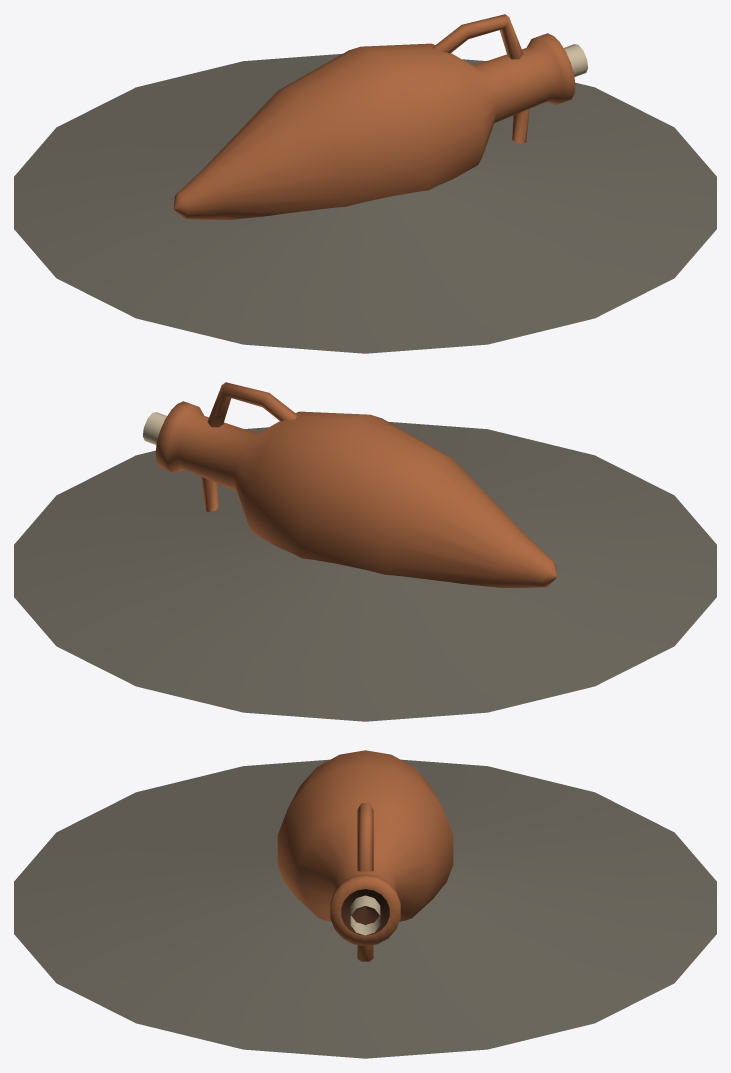
Rendered from atlas-amphora.glb.
3 renders of one model, top to bottom at view 1: azimuth 30°, elevation 25°; view 2: azimuth 150°, elevation 25°; view 3: azimuth 270°, elevation 25°, orthographic.
Visible parts, largest first — view 1: atlas-amphora; view 2: atlas-amphora; view 3: atlas-amphora.
Part boxes in pixels (x1=…): atlas-amphora: x1=14, y1=14, x2=716, y2=353; atlas-amphora: x1=14, y1=382, x2=716, y2=721; atlas-amphora: x1=14, y1=750, x2=716, y2=1058.
Bounding box in the file's own units: 0.96 × 0.2461 × 0.9454.
